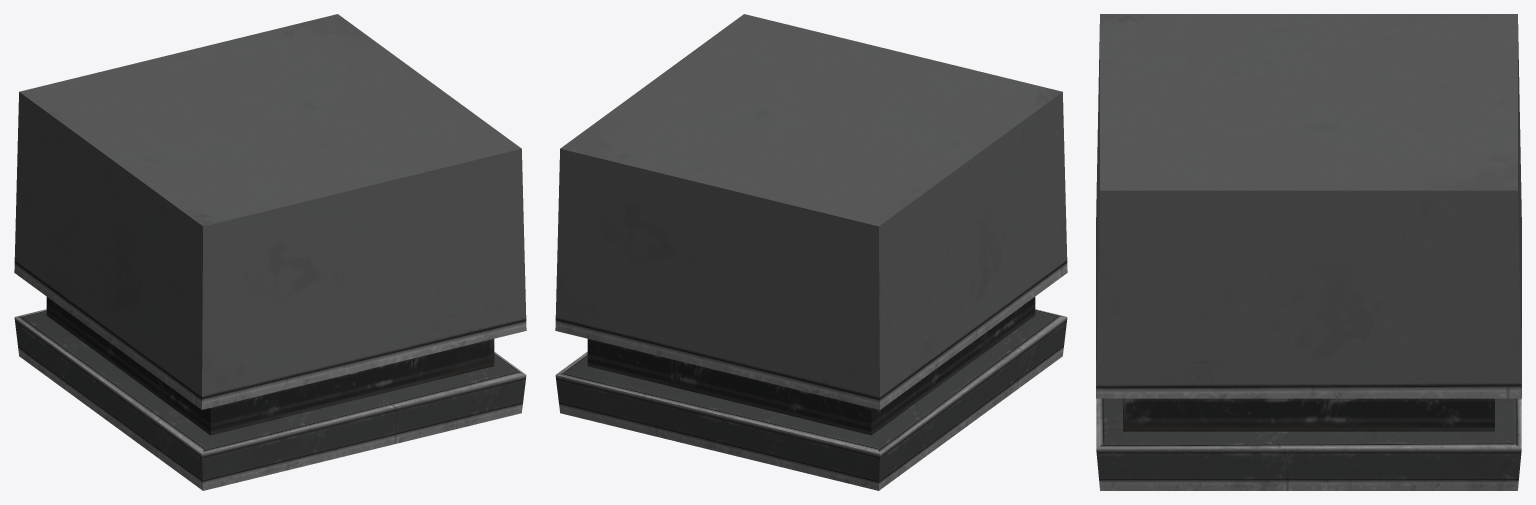
The model's file is Subway_wall_edge2_Courner_L1.fbx.
3 renders of one model, left to right at view 1: azimuth 30°, elevation 25°; view 2: azimuth 150°, elevation 25°; view 3: azimuth 270°, elevation 25°, orthographic. The views are drawn at different scales.
Parts seen in each view (by area): view 1: pCube81; view 2: pCube81; view 3: pCube81.
Boxes of the visible parts, x1,y1,x2,y2 form: pCube81: [14, 14, 526, 490]; pCube81: [555, 14, 1067, 490]; pCube81: [1096, 14, 1521, 490].
Size of the model in its own units: 42.98 by 33.46 by 42.98.
